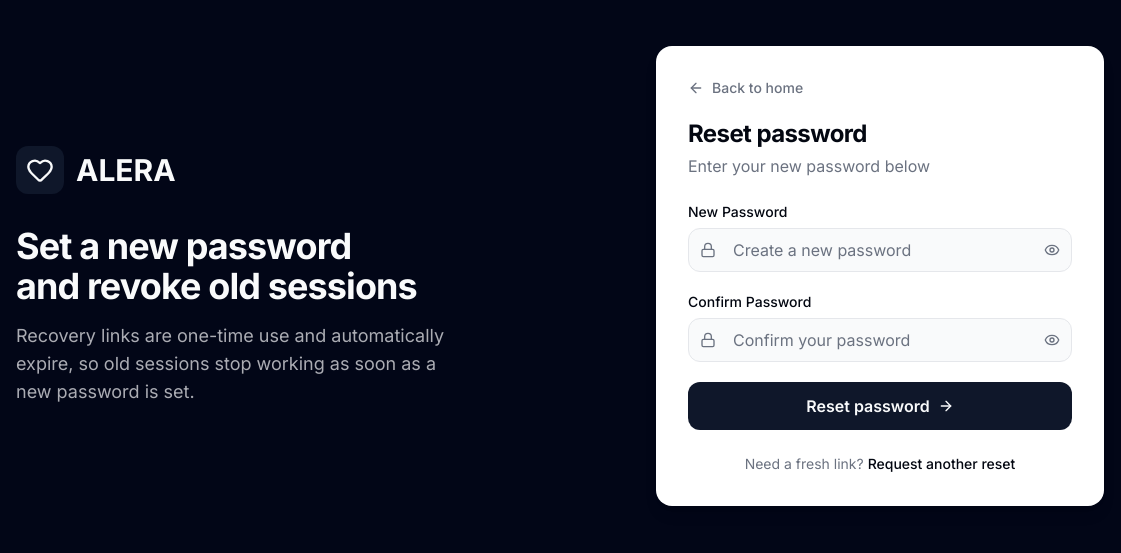
Test: Recovery flows › submits a reset-password token exchange
Type "newpassword123" into the password field with placeholder "Create a new password".
click(880, 250); type("newpassword123")  # box [688,228,1072,272]
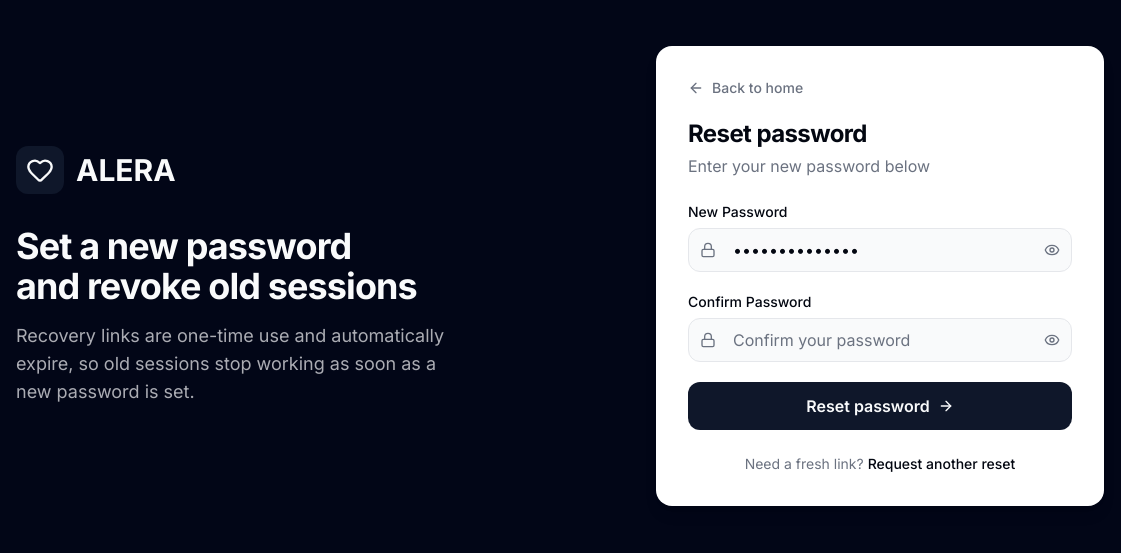
Type "newpassword123" into the password field with placeholder "Confirm your password".
click(880, 340); type("newpassword123")  # box [688,318,1072,362]
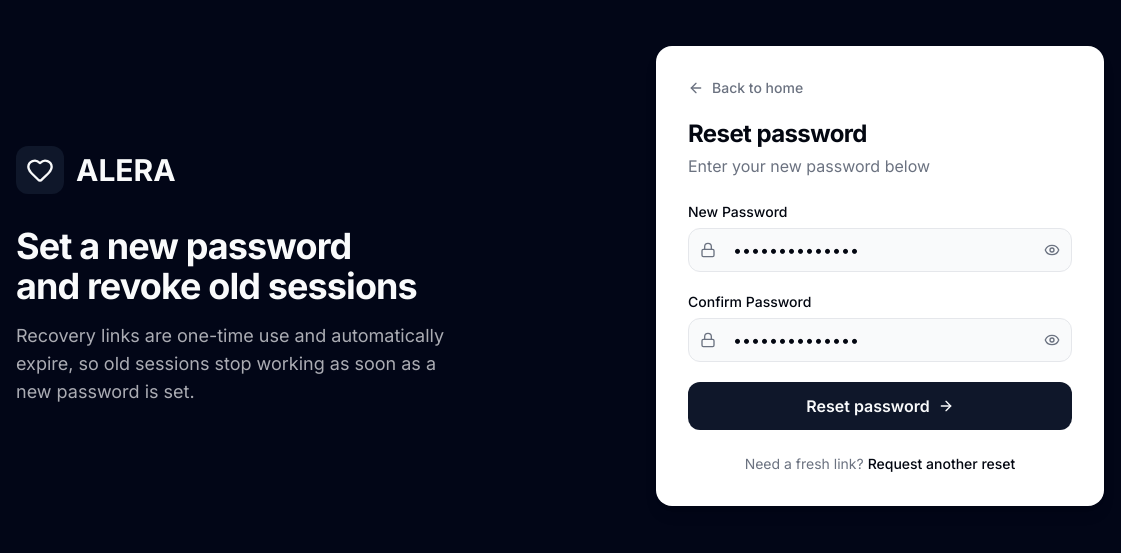
Click the button "Reset password".
click(880, 406)  # box [688,382,1072,430]
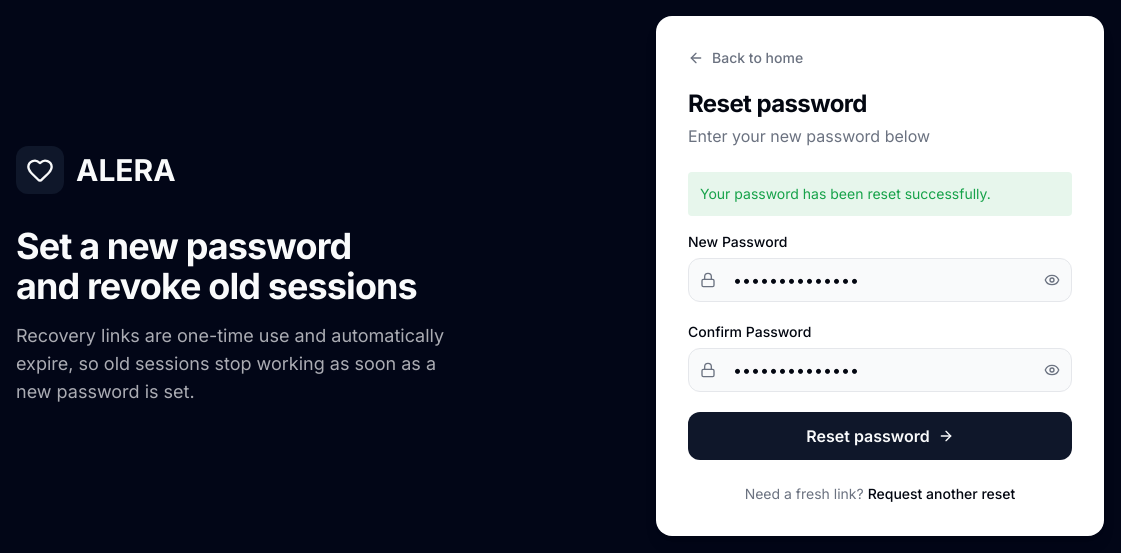
Check: the text "Your password has been reset successfully." is shown, box [688,172,1072,216]
